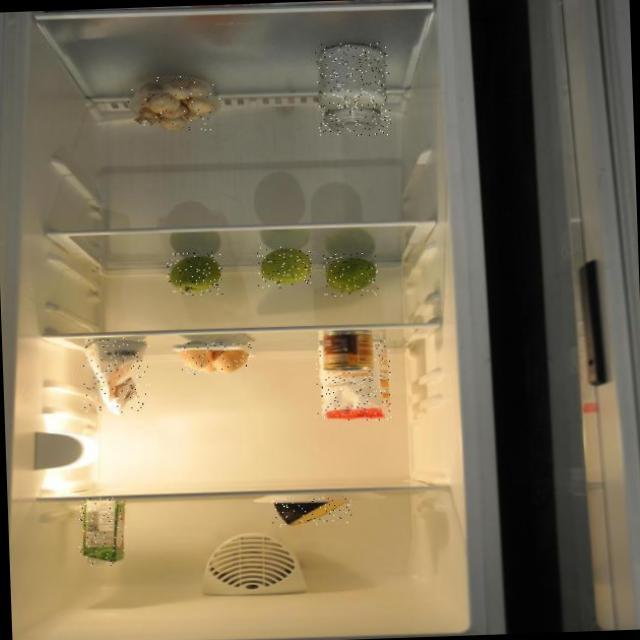Huevos: (178, 339, 251, 375)
Manzana: (166, 251, 222, 295), (256, 244, 312, 288), (322, 252, 377, 296)
Queso: (269, 494, 352, 527)
